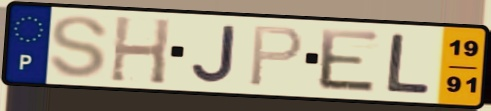E: (317, 26, 382, 95)
H: (107, 13, 173, 87)
J: (189, 24, 238, 85)
L: (383, 31, 433, 96)
P: (246, 24, 305, 89)
S: (47, 13, 111, 80)
